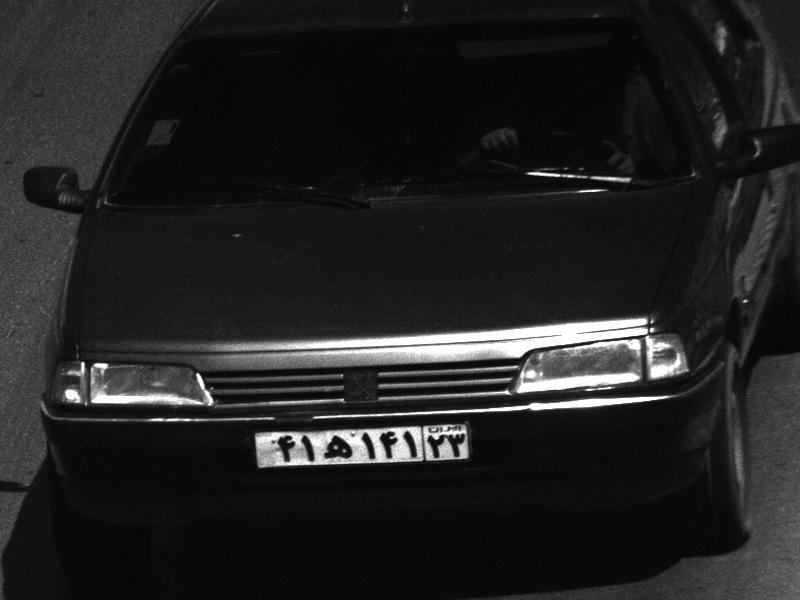Plate: (251, 424, 476, 468)
